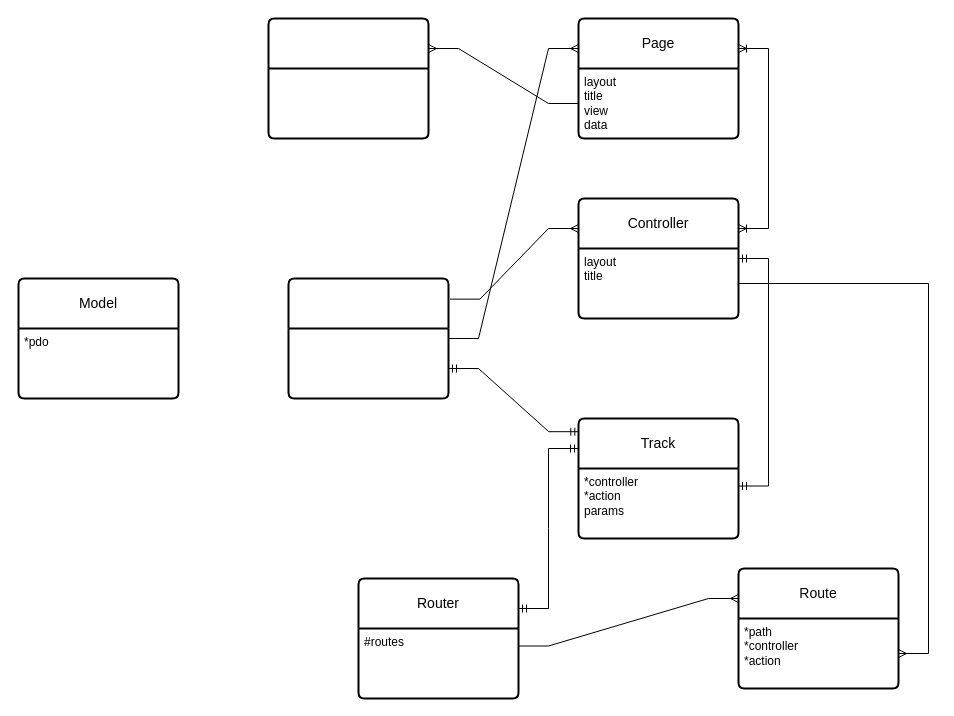
Some shapes in this 954 by 716 pixel diagram are drawn without their labels. The shapes that lost their labels are listed below. From the top down, each one's centre as x and y in pixels, then its label:
(348,78): View
(368,338): Dispatcher
